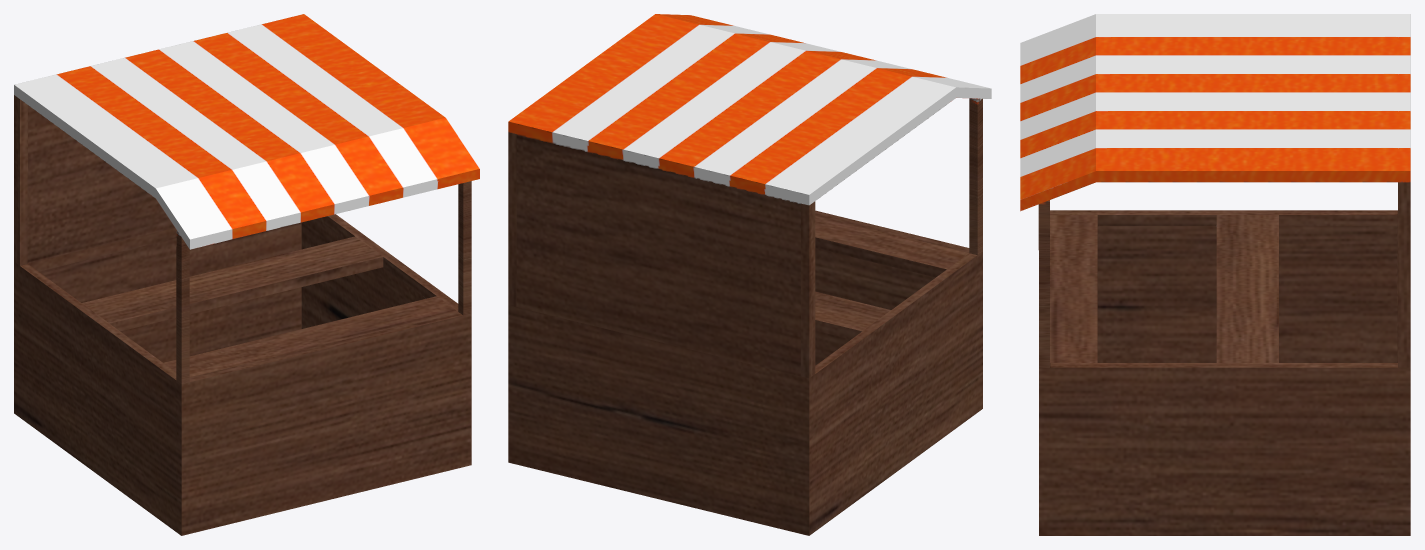
File: Stand.obj
3 renders of one model, left to right at view 1: azimuth 30°, elevation 25°; view 2: azimuth 150°, elevation 25°; view 3: azimuth 270°, elevation 25°, orthographic. The views are drawn at different scales.
Visible parts, largest first — view 1: Stand; view 2: Stand; view 3: Stand.
Boxes of the visible parts, left/top/right/bottom form: Stand: left=14, top=14, right=479, bottom=535; Stand: left=508, top=14, right=991, bottom=535; Stand: left=1020, top=14, right=1410, bottom=535.
Size of the model in its own units: 2 by 2.17 by 2.1.
Materials: 1 (1 with a texture image).
